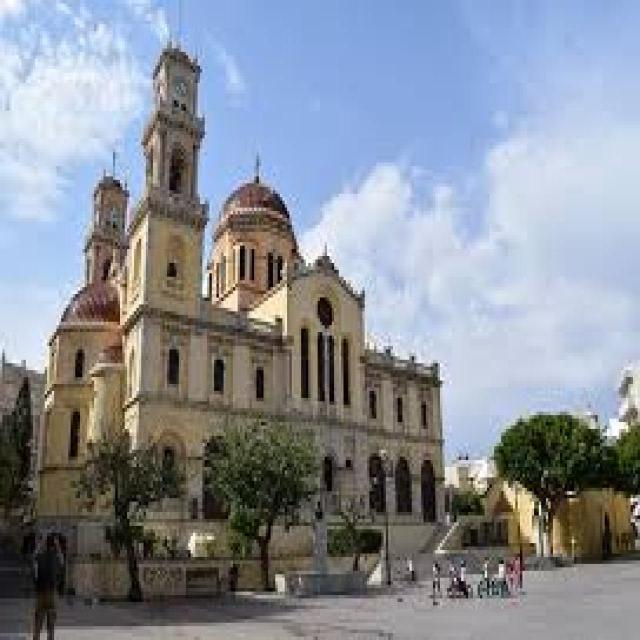Agios Minas: (32, 46, 449, 534)
